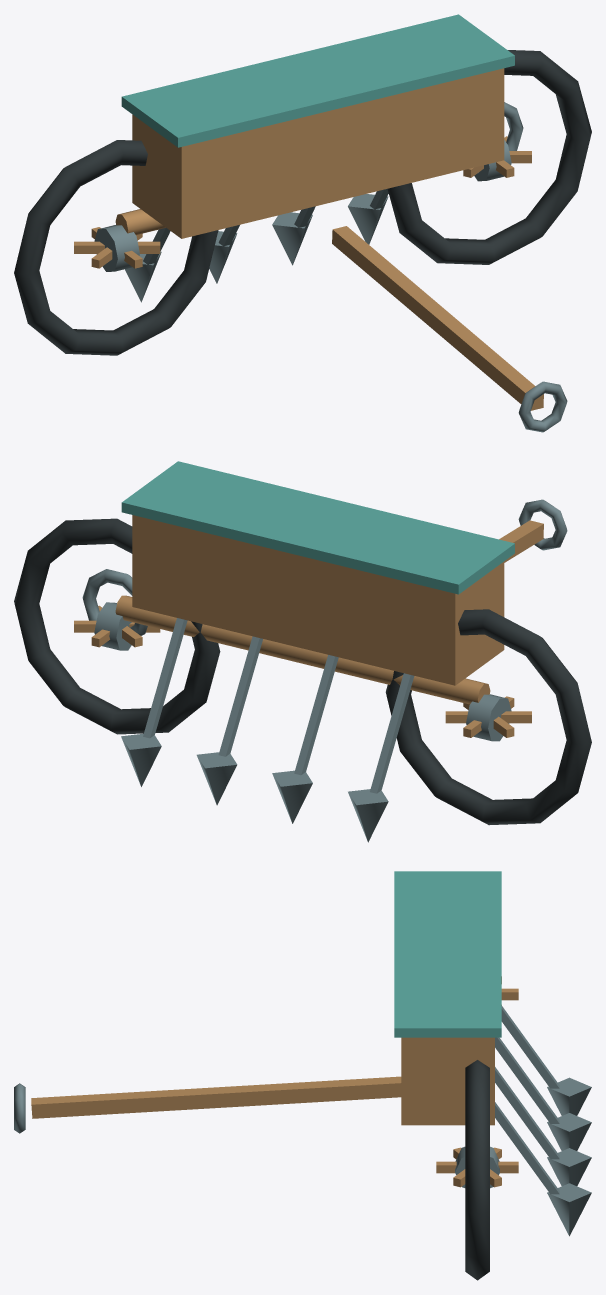
Rendered from seed-drill.source.glb.
3 renders of one model, top to bottom at view 1: azimuth 30°, elevation 25°; view 2: azimuth 150°, elevation 25°; view 3: azimuth 270°, elevation 25°, orthographic. The views are drawn at different scales.
Parts seen in each view (by area): view 1: seed-drill-seed-hopper-mesh, seed-drill-hopper-lid-mesh, seed-drill-left-drive-wheel-tire-mesh, seed-drill-right-drive-wheel-tire-mesh, seed-drill-drawbar-mesh, seed-drill-hitch-eye-mesh, seed-drill-left-drive-wheel-hub-mesh, seed-drill-furrow-opener-4-mesh, seed-drill-furrow-opener-3-mesh, seed-drill-meter-shaft-mesh, seed-drill-furrow-opener-1-mesh, seed-drill-left-drive-wheel-spoke-2-mesh (+2 smaller); view 2: seed-drill-seed-hopper-mesh, seed-drill-hopper-lid-mesh, seed-drill-left-drive-wheel-tire-mesh, seed-drill-right-drive-wheel-tire-mesh, seed-drill-meter-shaft-mesh, seed-drill-seed-tube-2-mesh, seed-drill-seed-tube-1-mesh, seed-drill-seed-tube-3-mesh, seed-drill-seed-tube-4-mesh, seed-drill-left-drive-wheel-hub-mesh, seed-drill-coupling-gear-mesh, seed-drill-furrow-opener-4-mesh (+7 smaller); view 3: seed-drill-hopper-lid-mesh, seed-drill-drawbar-mesh, seed-drill-seed-hopper-mesh, seed-drill-right-drive-wheel-tire-mesh, seed-drill-furrow-opener-4-mesh, seed-drill-furrow-opener-1-mesh, seed-drill-furrow-opener-3-mesh, seed-drill-furrow-opener-2-mesh, seed-drill-seed-tube-3-mesh, seed-drill-seed-tube-4-mesh, seed-drill-seed-tube-2-mesh, seed-drill-seed-tube-1-mesh (+1 smaller).
Boxes of the visible parts, <box> form: seed-drill-seed-hopper-mesh: <box>132,68,504,238</box>; seed-drill-hopper-lid-mesh: <box>121,14,514,147</box>; seed-drill-left-drive-wheel-tire-mesh: <box>14,140,218,355</box>; seed-drill-right-drive-wheel-tire-mesh: <box>387,50,591,264</box>; seed-drill-drawbar-mesh: <box>332,226,543,410</box>; seed-drill-hitch-eye-mesh: <box>518,381,567,432</box>; seed-drill-left-drive-wheel-hub-mesh: <box>94,225,139,271</box>; seed-drill-furrow-opener-4-mesh: <box>348,194,388,244</box>; seed-drill-furrow-opener-3-mesh: <box>272,212,312,265</box>; seed-drill-meter-shaft-mesh: <box>115,209,165,234</box>; seed-drill-furrow-opener-1-mesh: <box>125,251,161,302</box>; seed-drill-left-drive-wheel-spoke-2-mesh: <box>74,241,160,253</box>; seed-drill-seed-hopper-mesh: <box>132,515,504,685</box>; seed-drill-hopper-lid-mesh: <box>121,461,514,594</box>; seed-drill-left-drive-wheel-tire-mesh: <box>385,609,591,825</box>; seed-drill-right-drive-wheel-tire-mesh: <box>14,518,220,734</box>; seed-drill-meter-shaft-mesh: <box>115,595,490,704</box>; seed-drill-seed-tube-2-mesh: <box>294,655,338,775</box>; seed-drill-seed-tube-1-mesh: <box>370,673,414,793</box>; seed-drill-seed-tube-3-mesh: <box>218,636,262,756</box>; seed-drill-seed-tube-4-mesh: <box>143,618,187,738</box>; seed-drill-left-drive-wheel-hub-mesh: <box>466,694,511,741</box>; seed-drill-coupling-gear-mesh: <box>82,569,147,642</box>; seed-drill-furrow-opener-4-mesh: <box>121,733,161,786</box>; seed-drill-hopper-lid-mesh: <box>394,871,501,1037</box>; seed-drill-drawbar-mesh: <box>31,1076,401,1118</box>; seed-drill-seed-hopper-mesh: <box>401,1037,494,1125</box>; seed-drill-right-drive-wheel-tire-mesh: <box>465,1060,489,1280</box>; seed-drill-furrow-opener-4-mesh: <box>547,1183,591,1236</box>; seed-drill-furrow-opener-1-mesh: <box>547,1077,591,1115</box>; seed-drill-furrow-opener-3-mesh: <box>547,1148,591,1185</box>; seed-drill-furrow-opener-2-mesh: <box>547,1113,591,1150</box>; seed-drill-seed-tube-3-mesh: <box>495,1067,559,1159</box>; seed-drill-seed-tube-4-mesh: <box>495,1102,559,1194</box>; seed-drill-seed-tube-2-mesh: <box>495,1037,559,1123</box>; seed-drill-seed-tube-1-mesh: <box>501,1006,559,1088</box>.
Bounding box in the file's own units: 3.67 × 1.49 × 3.33.
